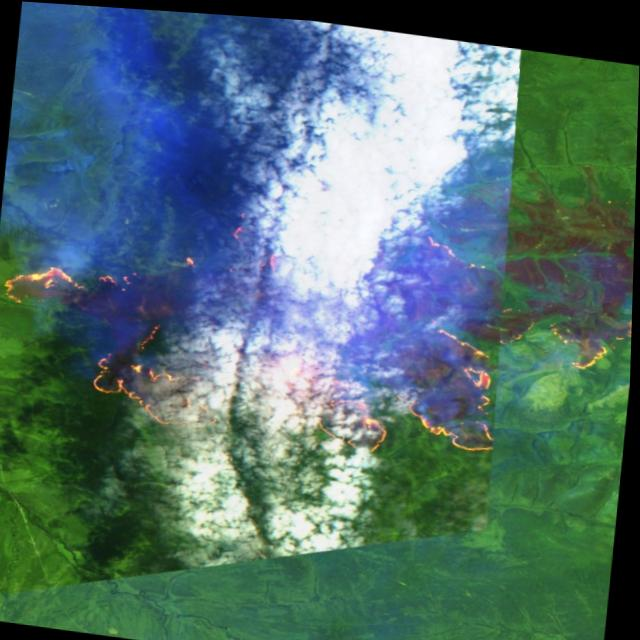fire: (394, 311, 513, 453), (77, 332, 228, 431), (488, 289, 634, 370), (0, 257, 125, 314), (211, 214, 287, 301), (306, 381, 398, 452), (421, 222, 503, 271)
